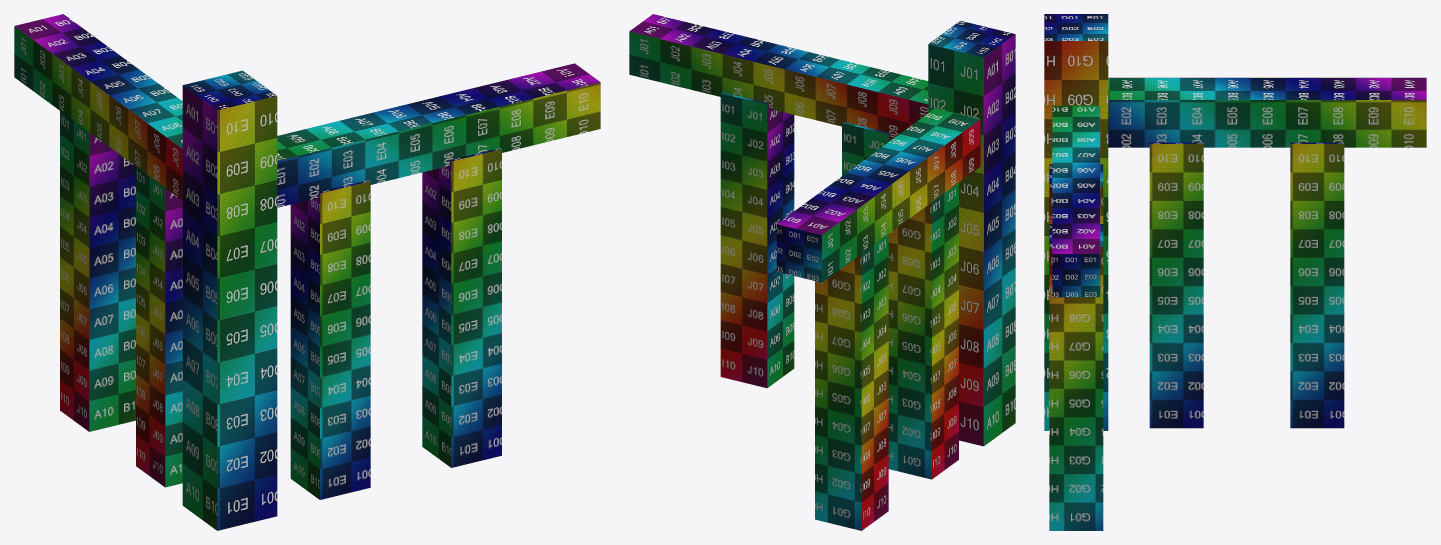
Rendered from railling_corner.fbx.
3 renders of one model, left to right at view 1: azimuth 30°, elevation 25°; view 2: azimuth 150°, elevation 25°; view 3: azimuth 270°, elevation 25°, orthographic. The views are drawn at different scales.
Parts seen in each view (by area): view 1: 立方体.008; view 2: 立方体.008; view 3: 立方体.008.
Boxes of the visible parts, x1,y1,x2,y2 form: 立方体.008: (14,14,600,530); 立方体.008: (629,14,1015,530); 立方体.008: (1044,14,1426,530).
Size of the model in its own units: 822 by 852 by 757.
